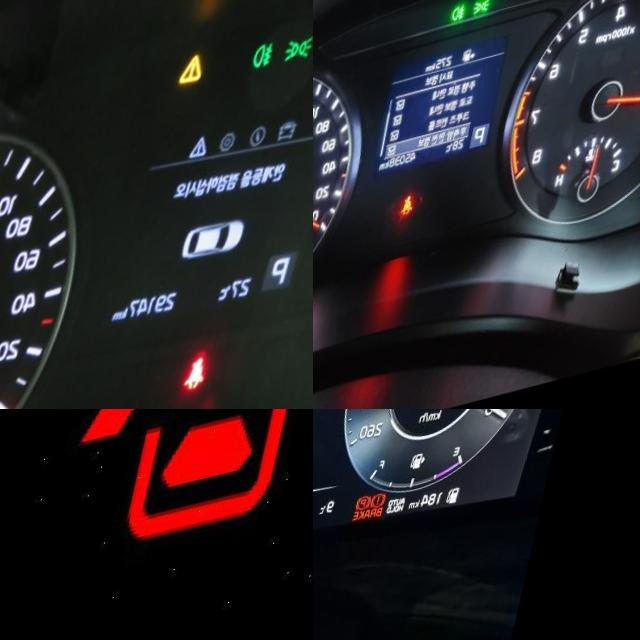Central Warning lamp: (190, 65, 222, 100)
FrontFogLight: (262, 57, 289, 89), (463, 18, 478, 35)
SideLamp: (294, 51, 313, 84), (484, 13, 503, 30)
